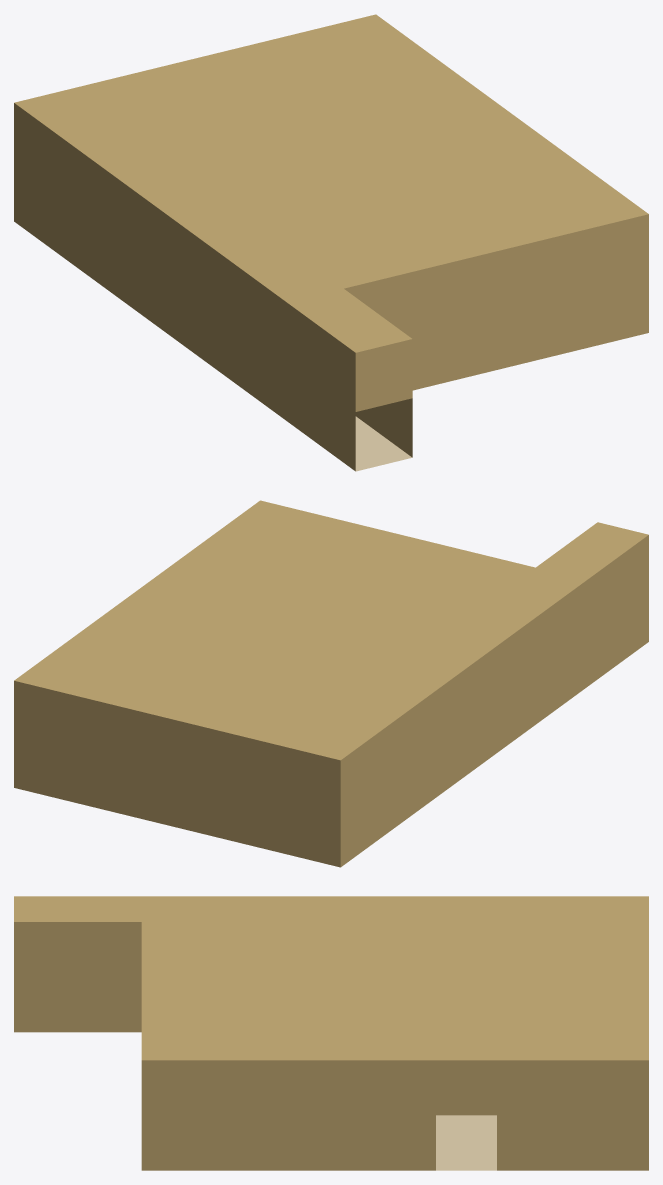
File: Room005.fbx
The picture shows the model from 3 angles, top to bottom: view 1: azimuth 30°, elevation 25°; view 2: azimuth 150°, elevation 25°; view 3: azimuth 270°, elevation 25°; orthographic projection. The views are drawn at different scales.
Visible parts, largest first — view 1: Cube; view 2: Cube; view 3: Cube.
Boxes of the visible parts, x1,y1,x2,y2 form: Cube: (14,14,648,471); Cube: (14,500,648,867); Cube: (14,896,648,1170).
Bounding box in the file's own units: 2548 × 799 × 4165.
